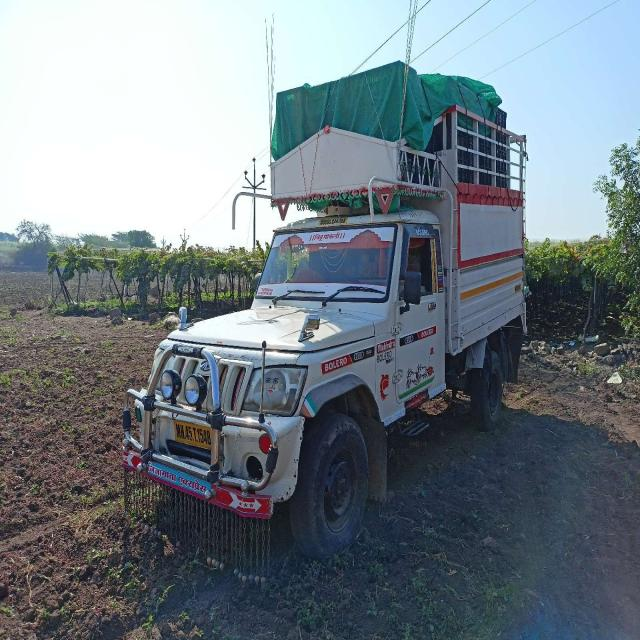light_vehicle: (117, 202, 442, 519)
